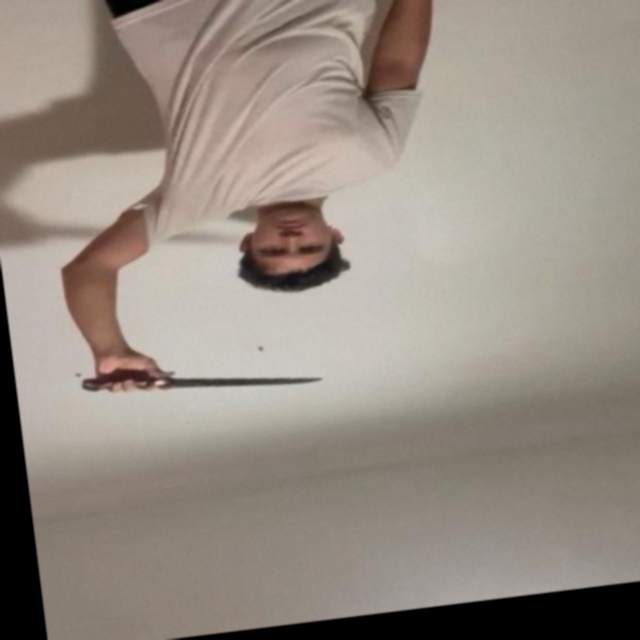Sharp-Object: (166, 361, 323, 401)
